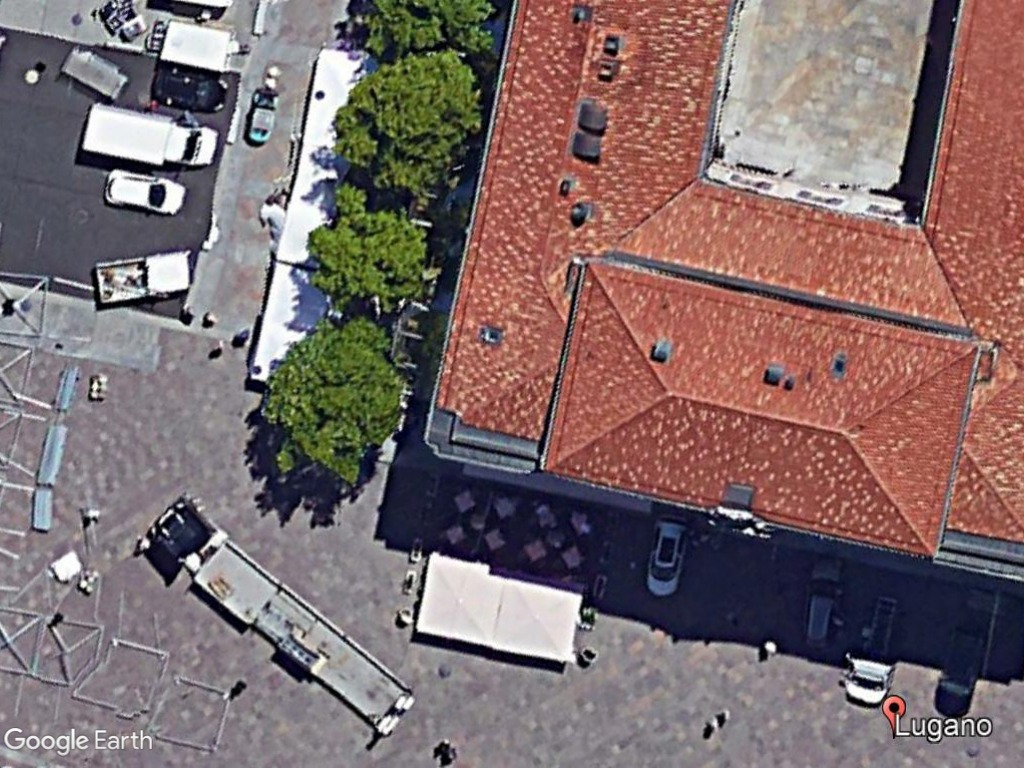car: (100, 163, 194, 218)
truck: (73, 101, 221, 172)
